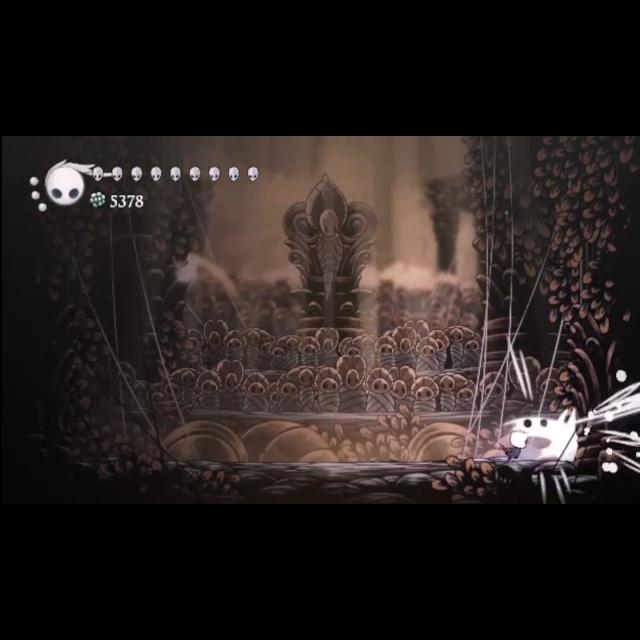EnemyDamaged: (550, 402, 594, 462)
Player: (498, 418, 536, 464)
